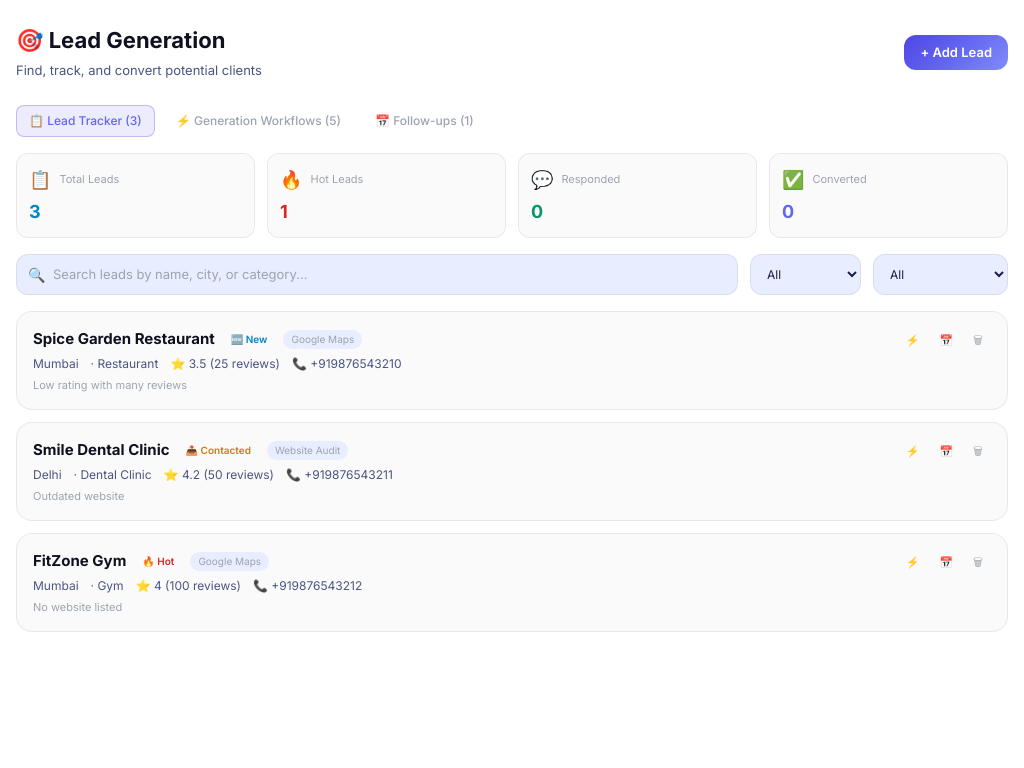
Test: LeadsTab › view tab switching › switches to workflows view
Note: Find the workflows tab button
Click the button "⚡ Generation Workflows (5)" at (258, 120), box [163,104,354,136]
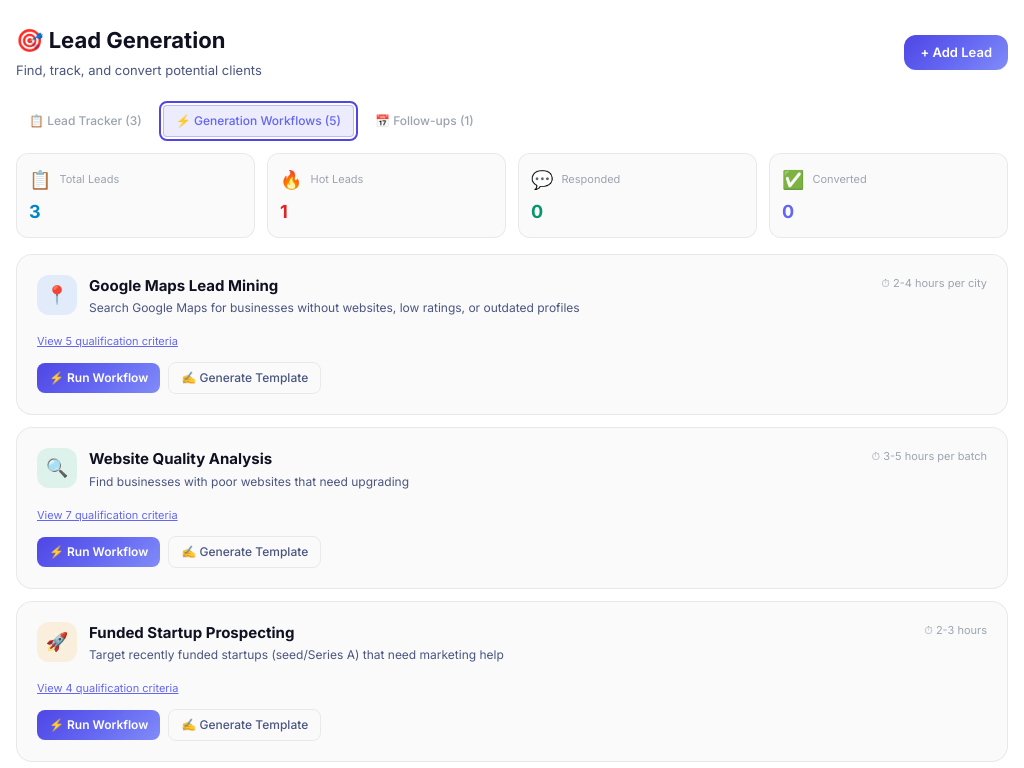
Check: the heading "Google Maps Lead Mining" is shown, box [89,276,278,294]
Check: the heading "Website Quality Analysis" is shown, box [89,449,272,468]
